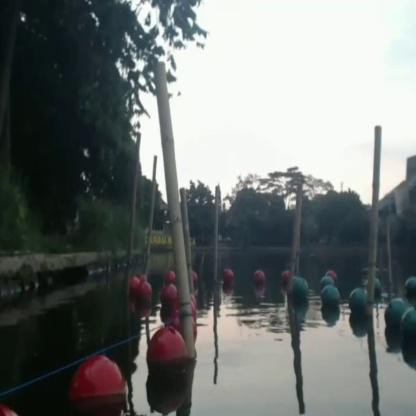green_buoy: (349, 286, 368, 322), (383, 298, 402, 332), (319, 288, 339, 318), (403, 311, 415, 358), (292, 276, 308, 308), (404, 275, 415, 298), (318, 278, 330, 287)
red_buoy: (72, 352, 122, 414), (146, 326, 188, 394), (160, 288, 177, 314), (139, 284, 152, 308), (224, 268, 234, 288), (254, 272, 265, 288), (165, 266, 175, 281), (326, 268, 336, 282), (132, 275, 138, 296), (282, 270, 288, 286)
